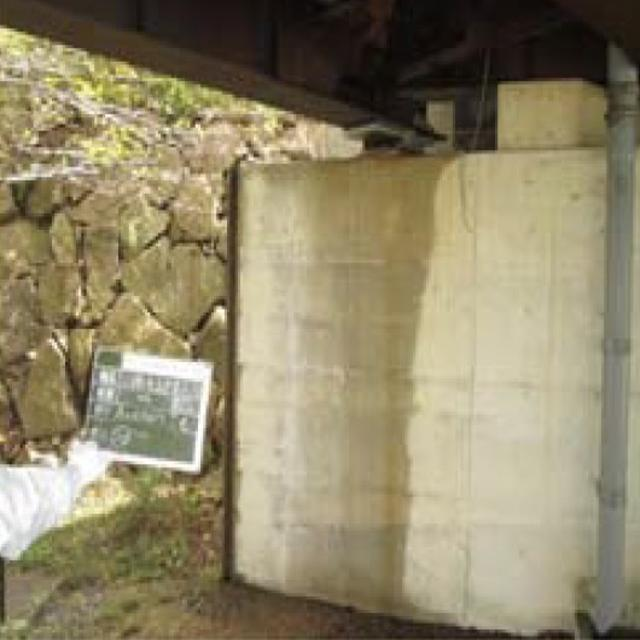leakage: (238, 146, 423, 617)
